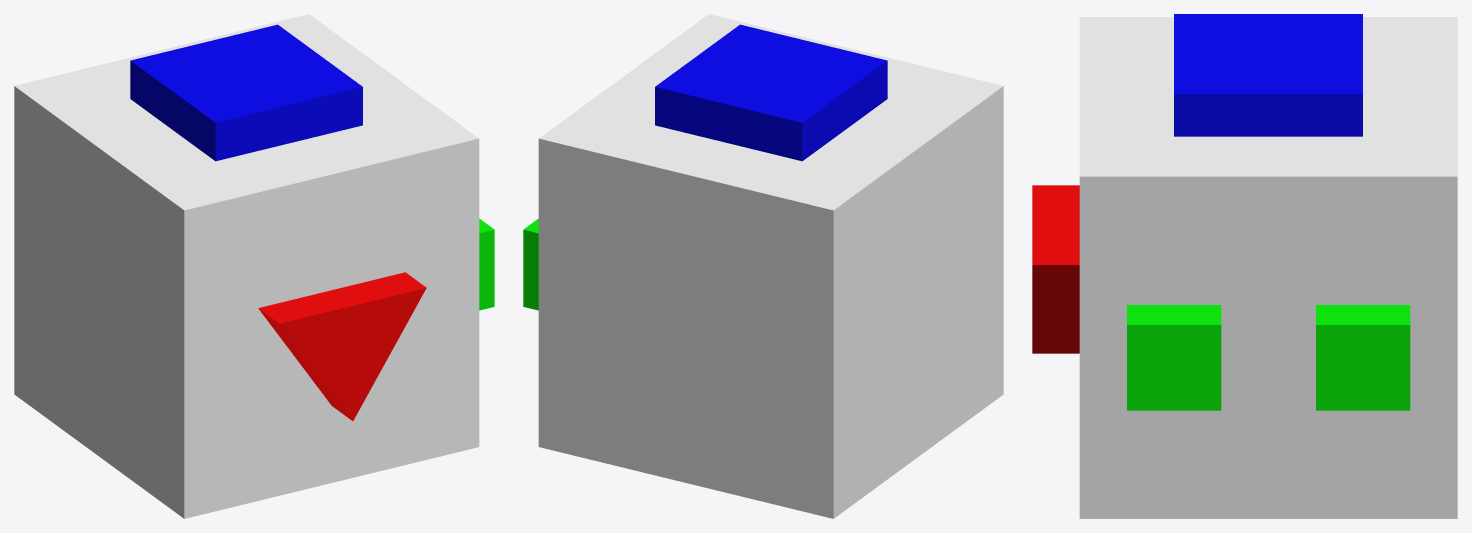
The model's file is path.obj.
3 renders of one model, left to right at view 1: azimuth 30°, elevation 25°; view 2: azimuth 150°, elevation 25°; view 3: azimuth 270°, elevation 25°, orthographic. The views are drawn at different scales.
Parts seen in each view (by area): view 1: entity1_brush0, entity1_brush4, entity1_brush1, entity1_brush2; view 2: entity1_brush0, entity1_brush4, entity1_brush3; view 3: entity1_brush0, entity1_brush4, entity1_brush2, entity1_brush3, entity1_brush1.
Boxes of the visible parts, <box> form: entity1_brush0: <box>14,14,479,518</box>; entity1_brush4: <box>130,24,362,161</box>; entity1_brush1: <box>258,272,426,420</box>; entity1_brush2: <box>479,218,494,310</box>; entity1_brush0: <box>538,14,1003,518</box>; entity1_brush4: <box>655,24,887,161</box>; entity1_brush3: <box>523,218,538,310</box>; entity1_brush0: <box>1079,17,1457,518</box>; entity1_brush4: <box>1174,14,1362,136</box>; entity1_brush2: <box>1127,305,1221,410</box>; entity1_brush3: <box>1316,305,1410,410</box>; entity1_brush1: <box>1032,185,1079,353</box>.
Size of the model in its own units: 18 by 18 by 18.
